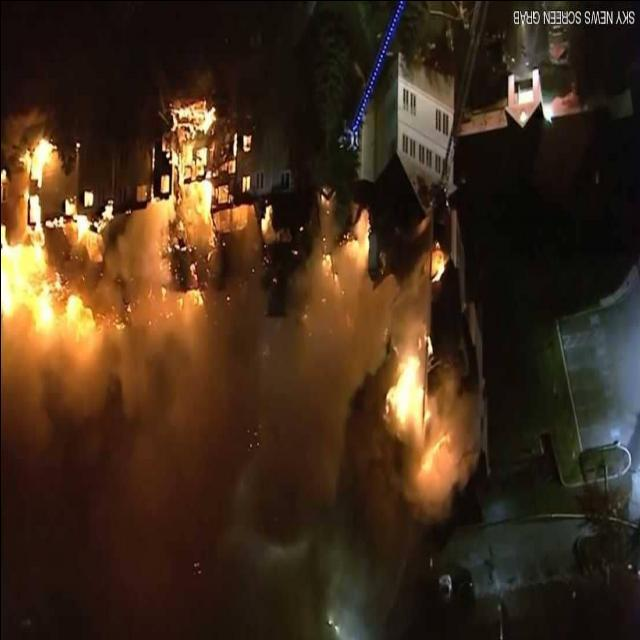Fire: (0, 99, 216, 354), (303, 215, 473, 502)
